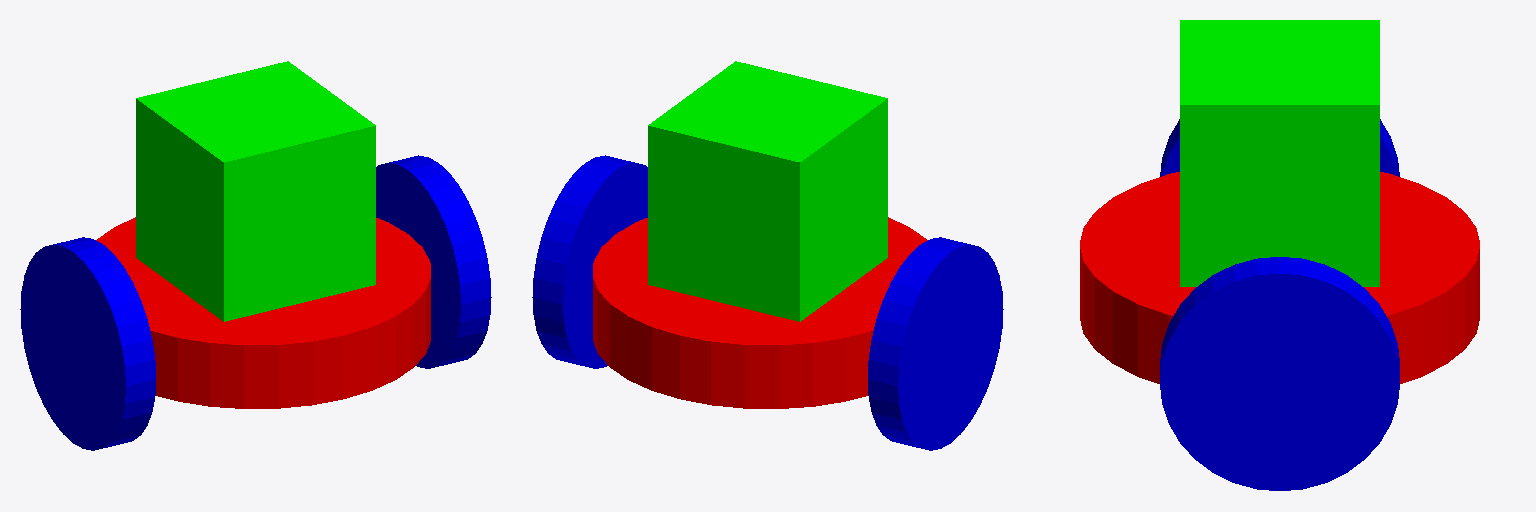
URDF robot description (mobile_robot):
<?xml version="1.0" ?>
<!-- =================================================================================== -->
<!-- |    This document was autogenerated by xacro from robot.xacro                    | -->
<!-- |    EDITING THIS FILE BY HAND IS NOT RECOMMENDED                                 | -->
<!-- =================================================================================== -->
<robot name="mobile_robot">
  <!-- Robot Base -->
  <link name="base_link">
    <visual>
      <origin rpy="0 0 0" xyz="0 0 0"/>
      <geometry>
        <cylinder length="0.02" radius="0.05"/>
      </geometry>
      <material name="red">
        <color rgba="1.0 0.0 0.0 1.0"/>
      </material>
    </visual>
    <collision>
      <origin rpy="0 0 0" xyz="0 0 0"/>
      <geometry>
        <cylinder length="0.02" radius="0.05"/>
      </geometry>
    </collision>
  </link>
  <!-- Robot Head -->
  <link name="head_link">
    <visual>
      <origin rpy="0 0 0" xyz="0 0 0"/>
      <geometry>
        <box size="0.05 0.05 0.05"/>
      </geometry>
      <material name="green">
        <color rgba="0.0 1.0 0.0 1.0"/>
      </material>
    </visual>
    <collision>
      <origin rpy="0 0 0" xyz="0 0 0"/>
      <geometry>
        <box size="0.05 0.05 0.05"/>
      </geometry>
    </collision>
  </link>
  <!-- Robot Wheel -->
  <link name="left_wheel_link">
    <visual>
      <origin rpy="0 0 0" xyz="0 0 0"/>
      <geometry>
        <cylinder length="0.01" radius="0.03"/>
      </geometry>
      <material name="blue">
        <color rgba="0.0 0.0 1.0 1.0"/>
      </material>
    </visual>
    <collision>
      <origin rpy="0 0 0" xyz="0 0 0"/>
      <geometry>
        <cylinder length="0.01" radius="0.02"/>
      </geometry>
    </collision>
  </link>
  <!-- Robot Wheel -->
  <link name="right_wheel_link">
    <visual>
      <origin rpy="0 0 0" xyz="0 0 0"/>
      <geometry>
        <cylinder length="0.01" radius="0.03"/>
      </geometry>
      <material name="blue">
        <color rgba="0.0 0.0 1.0 1.0"/>
      </material>
    </visual>
    <collision>
      <origin rpy="0 0 0" xyz="0 0 0"/>
      <geometry>
        <cylinder length="0.01" radius="0.02"/>
      </geometry>
    </collision>
  </link>
  <!-- Attach the created links using joints -->
  <!-- Attach head_link to base_link -->
  <joint name="head_joint" type="fixed">
    <origin rpy="0.0 0.0 0.0" xyz="0.0 0.0 0.035"/>
    <parent link="base_link"/>
    <child link="head_link"/>
  </joint>
  <!-- Attach wheels to base_link -->
  <joint name="left_wheel_joint" type="revolute">
    <axis xyz="0 0 1"/>
    <limit effort="100.0" lower="-3.14" upper="3.14" velocity="0.1"/>
    <origin rpy="0.0 1.5708 0.0" xyz="0.055 0.0 0.0"/>
    <parent link="base_link"/>
    <child link="left_wheel_link"/>
  </joint>
  <joint name="right_wheel_joint" type="revolute">
    <axis xyz="0 0 1"/>
    <limit effort="100.0" lower="-3.14" upper="3.14" velocity="0.1"/>
    <origin rpy="0.0 1.5708 0.0" xyz="-0.055 0.0 0.0"/>
    <parent link="base_link"/>
    <child link="right_wheel_link"/>
  </joint>
</robot>

--- Facts derived from the render (not from the file) ---
The picture shows the robot from 3 angles, left to right: view 1: azimuth 30°, elevation 25°; view 2: azimuth 150°, elevation 25°; view 3: azimuth 270°, elevation 25°; orthographic projection.
Robot: mobile_robot — 4 links, 3 joints (2 revolute, 1 fixed); root link base_link; default pose: every joint at zero.
Links seen in each view (by area): view 1: head_link, base_link, right_wheel_link, left_wheel_link; view 2: head_link, base_link, right_wheel_link, left_wheel_link; view 3: head_link, left_wheel_link, base_link, right_wheel_link.
Boxes of the visible links, bbox=[...] form: head_link: bbox=[136, 61, 375, 321]; base_link: bbox=[96, 217, 430, 408]; right_wheel_link: bbox=[20, 237, 155, 450]; left_wheel_link: bbox=[376, 155, 491, 368]; head_link: bbox=[648, 61, 887, 321]; base_link: bbox=[593, 217, 927, 408]; right_wheel_link: bbox=[868, 237, 1003, 450]; left_wheel_link: bbox=[532, 155, 647, 368]; head_link: bbox=[1180, 20, 1379, 286]; left_wheel_link: bbox=[1160, 257, 1399, 490]; base_link: bbox=[1080, 172, 1479, 383]; right_wheel_link: bbox=[1160, 119, 1399, 176].
Size in the robot's own frame: 0.12 by 0.1 by 0.09 metres.
Geometry: primitives only (box / cylinder / sphere), no mesh files.